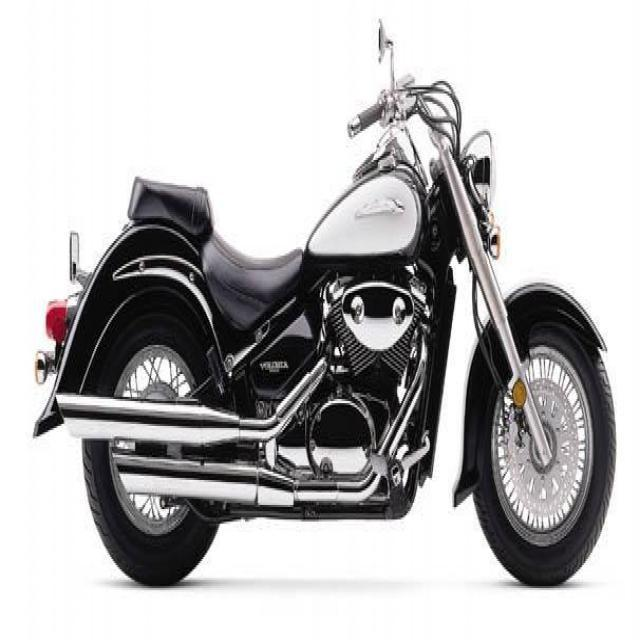Motorcycle: (36, 56, 621, 594)
